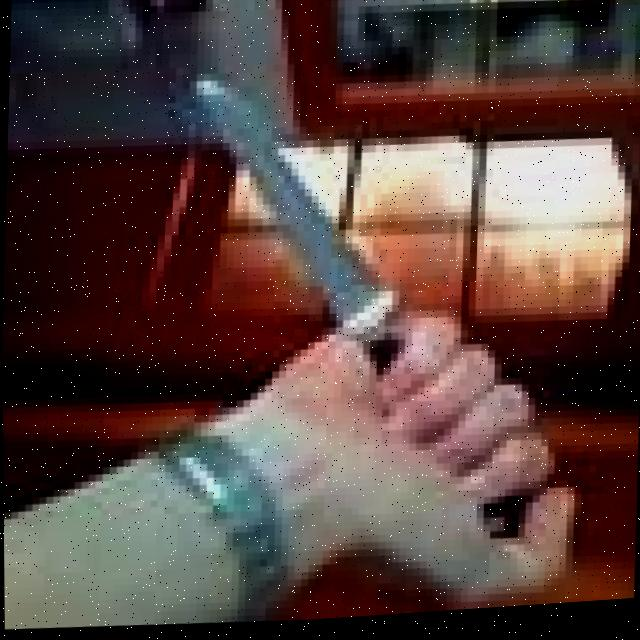knife: (170, 58, 403, 350)
